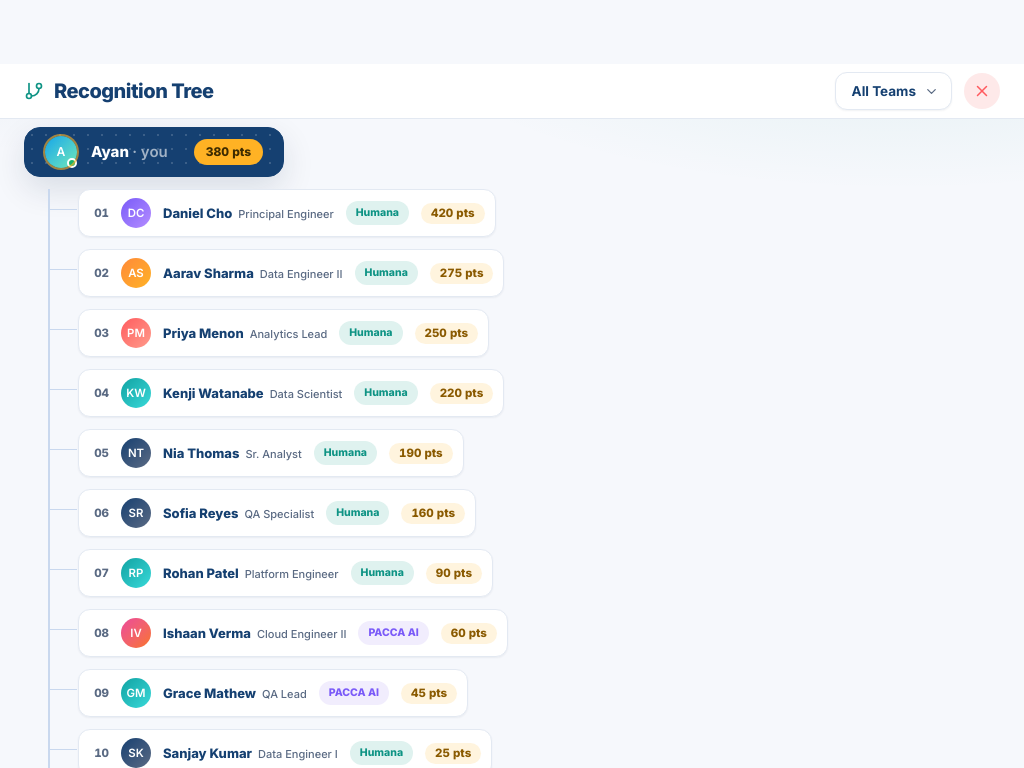
it: MyTree overlay (integration) › clicking outside the team dropdown closes it
The image size is (1024, 768).
Later steps or results of the test are not shown.
Click the button with aria-label "filter by team" at coordinates (893, 91), box [834,72,952,110]
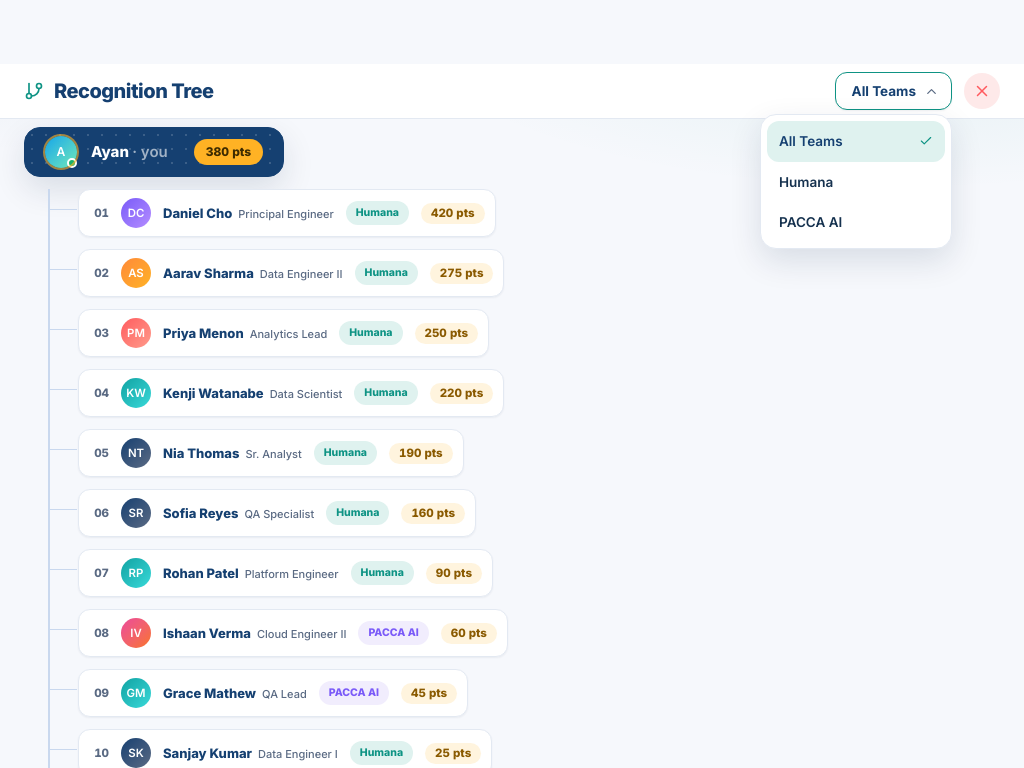
Check: the 2nd button "All Teams" is shown, box [767,121,945,162]
